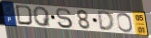8: (76, 9, 92, 30)
D: (96, 11, 116, 33), (15, 4, 34, 27)
O: (116, 12, 135, 34)
Q: (32, 6, 53, 27)
S: (55, 8, 75, 30)
